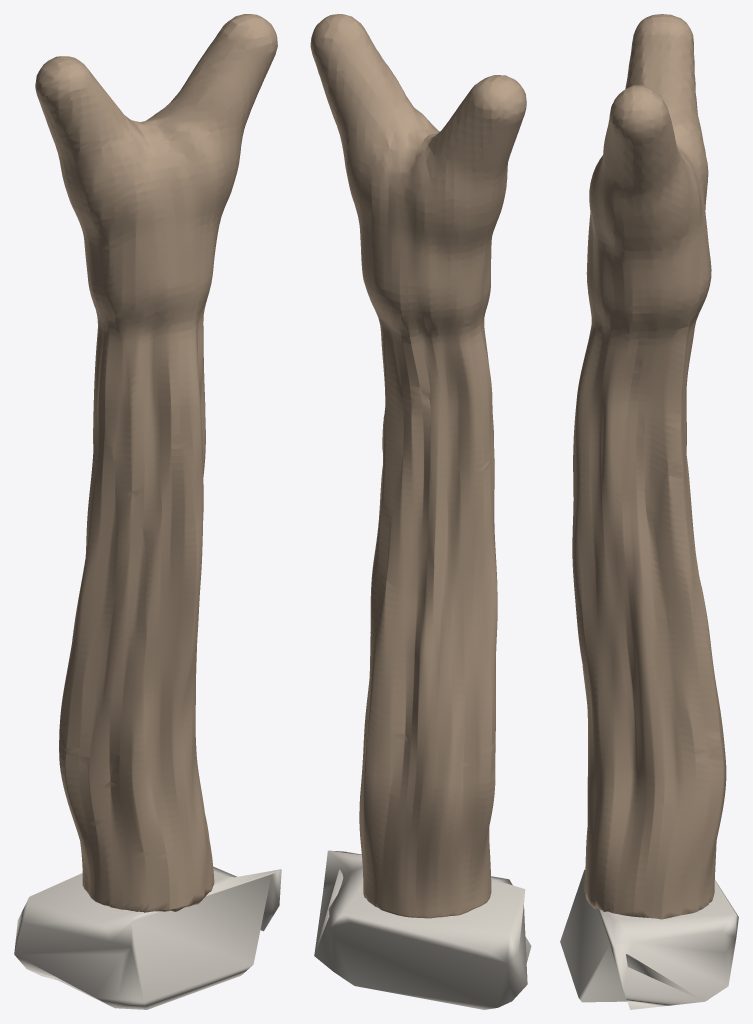
The model's file is bagana-f1-3x10x3-v2.glb.
3 views of the same model, side by side, from view 1: azimuth 30°, elevation 25°; view 2: azimuth 150°, elevation 25°; view 3: azimuth 270°, elevation 25° (orthographic).
Parts seen in each view (by area): view 1: bagana_wood, bagana_stone; view 2: bagana_wood, bagana_stone; view 3: bagana_wood, bagana_stone.
Boxes of the visible parts, x1=… form: bagana_wood: x1=35, y1=14, x2=277, y2=912; bagana_stone: x1=14, y1=866, x2=281, y2=1009; bagana_wood: x1=310, y1=14, x2=526, y2=918; bagana_stone: x1=314, y1=850, x2=531, y2=1009; bagana_wood: x1=572, y1=14, x2=726, y2=919; bagana_stone: x1=560, y1=869, x2=738, y2=1009.
Size of the model in its own units: 0.6597 by 2.5 by 0.4309.
